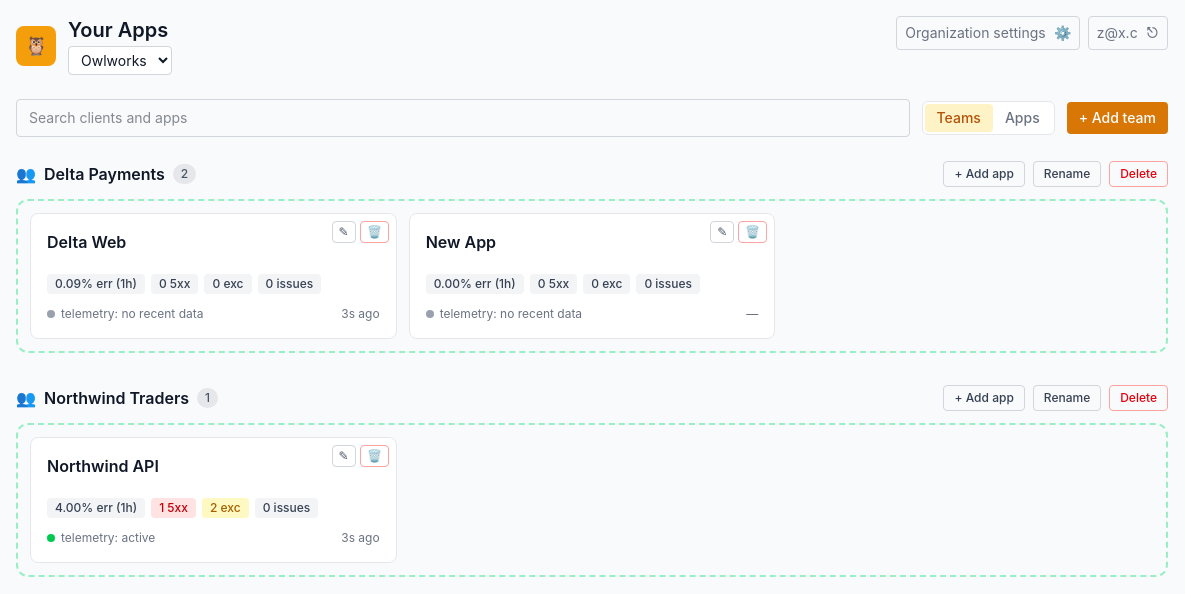
Test case: OrgDashboard › shows an org switcher and switches orgs when the user belongs to more than one
The image size is (1185, 594).
Select "Other Org" in the dropdown with test id "org-switcher": (120, 60) [68,46,172,75]
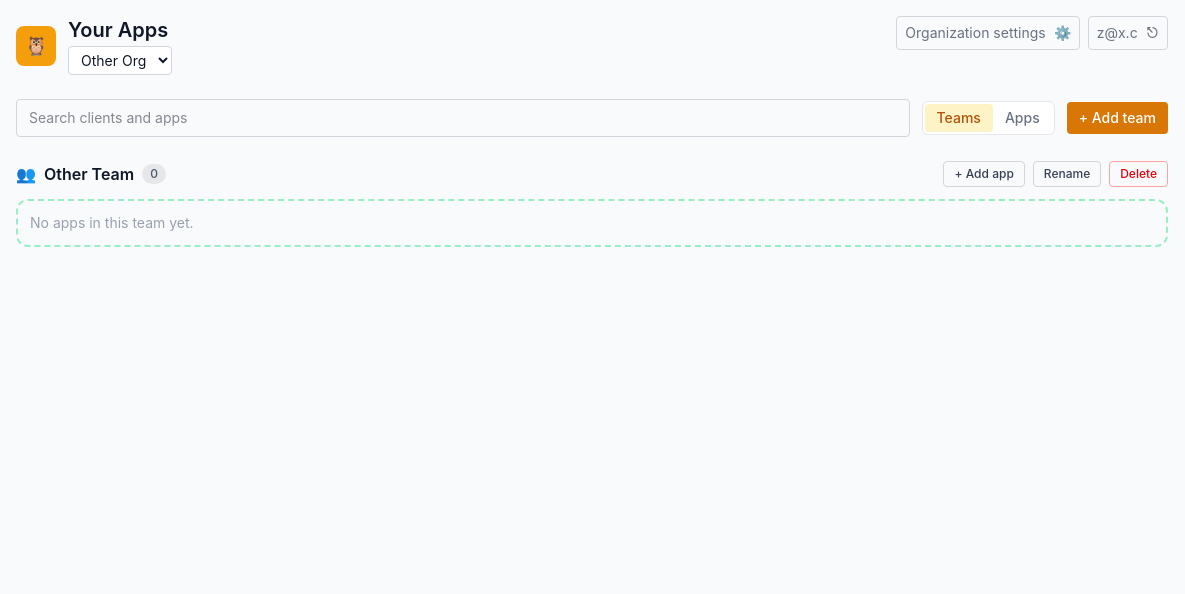
Expected: the text "Other Team" is shown, [44,162,134,186]
Expected: the text "Delta Payments" is gone
